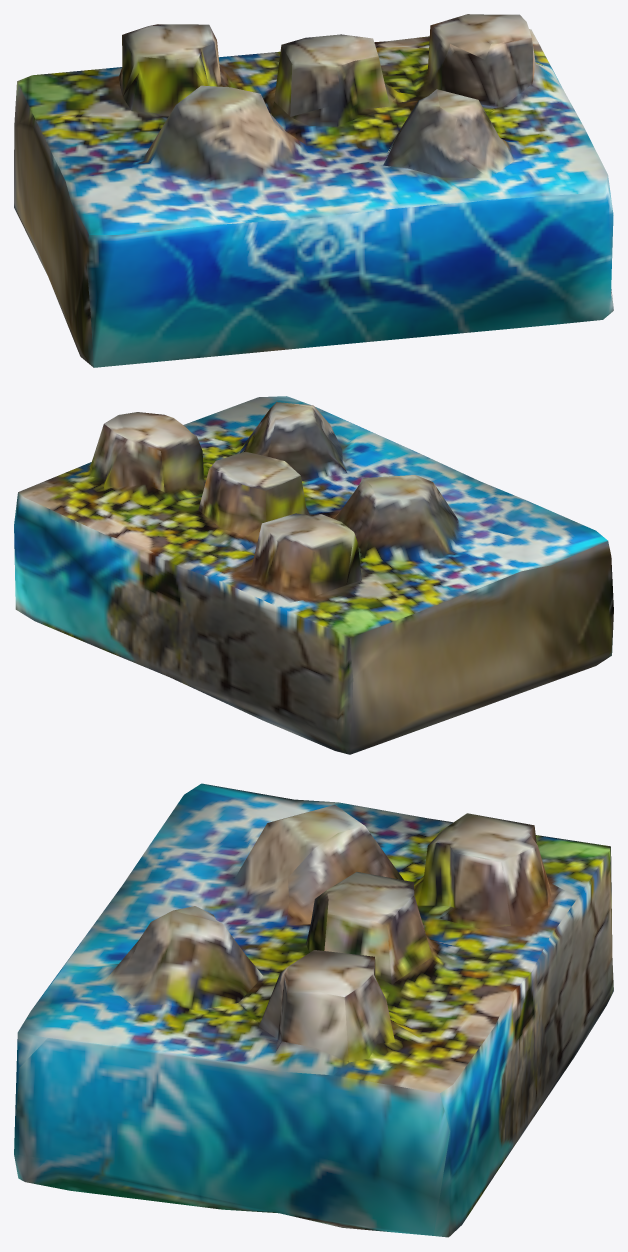
The model's file is SummerDecor_ThirdRoom_WaterTile.fbx.
3 renders of one model, top to bottom at view 1: azimuth 30°, elevation 25°; view 2: azimuth 150°, elevation 25°; view 3: azimuth 270°, elevation 25°, orthographic. The views are drawn at different scales.
Parts seen in each view (by area): view 1: SummerDecor_ThirdRoom_WaterTile_Mesh; view 2: SummerDecor_ThirdRoom_WaterTile_Mesh; view 3: SummerDecor_ThirdRoom_WaterTile_Mesh.
Part boxes in pixels (bbox=[...]): SummerDecor_ThirdRoom_WaterTile_Mesh: bbox=[14, 14, 613, 367]; SummerDecor_ThirdRoom_WaterTile_Mesh: bbox=[14, 396, 613, 754]; SummerDecor_ThirdRoom_WaterTile_Mesh: bbox=[14, 783, 613, 1237].
Bounding box in the file's own units: 6 × 1.98 × 4.93.
1 material, 1 textured.
